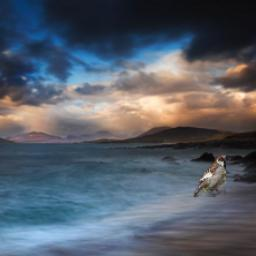Sparrow: (195, 156, 227, 198)
